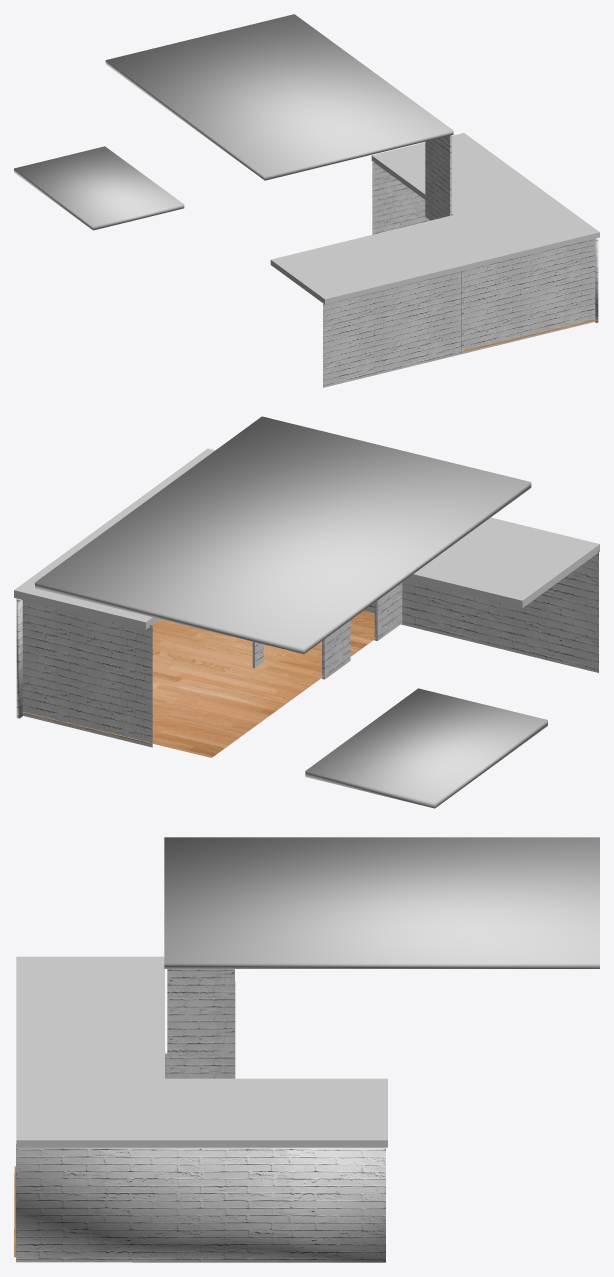
Rendered from house_menu.glb.
3 views of the same model, one above another, from view 1: azimuth 30°, elevation 25°; view 2: azimuth 150°, elevation 25°; view 3: azimuth 270°, elevation 25° (orthographic). The views are drawn at different scales.
Parts seen in each view (by area): view 1: Cube.038, Cube.036, Plane.037, Plane.040, Cube.037, Cube.055, Plane.004, Plane.033, Plane.034; view 2: Cube.038, Plane.036, Cube.037, Plane.004, Plane.037, Cube.036, Cube.055, Plane.045, Plane.046, Plane.001; view 3: Cube.038, Plane.001, Cube.036, Cube.055, Plane.033, Plane.034.
Part boxes in pixels (bbox=[...]): Cube.038: bbox=[105, 14, 453, 180]; Cube.036: bbox=[270, 192, 599, 304]; Plane.037: bbox=[323, 272, 460, 387]; Plane.040: bbox=[460, 239, 595, 354]; Cube.037: bbox=[14, 146, 184, 230]; Cube.055: bbox=[371, 133, 545, 215]; Plane.004: bbox=[372, 161, 429, 234]; Plane.033: bbox=[425, 137, 443, 220]; Plane.034: bbox=[443, 135, 451, 217]; Cube.038: bbox=[35, 416, 531, 653]; Plane.036: bbox=[22, 610, 376, 757]; Cube.037: bbox=[305, 688, 547, 808]; Plane.004: bbox=[22, 600, 152, 747]; Plane.037: bbox=[403, 551, 598, 672]; Cube.036: bbox=[130, 448, 599, 608]; Cube.055: bbox=[14, 505, 160, 629]; Plane.045: bbox=[374, 582, 402, 640]; Plane.046: bbox=[322, 620, 350, 679]; Plane.001: bbox=[16, 598, 22, 718]; Cube.038: bbox=[164, 837, 599, 968]; Plane.001: bbox=[16, 1144, 385, 1262]; Cube.036: bbox=[16, 956, 164, 1147]; Cube.055: bbox=[165, 1078, 387, 1147]; Plane.033: bbox=[185, 969, 235, 1078]; Plane.034: bbox=[167, 969, 185, 1078].
Size of the model in its own units: 60.79 by 27.19 by 60.51.
Materials: 8 (4 with a texture image).
